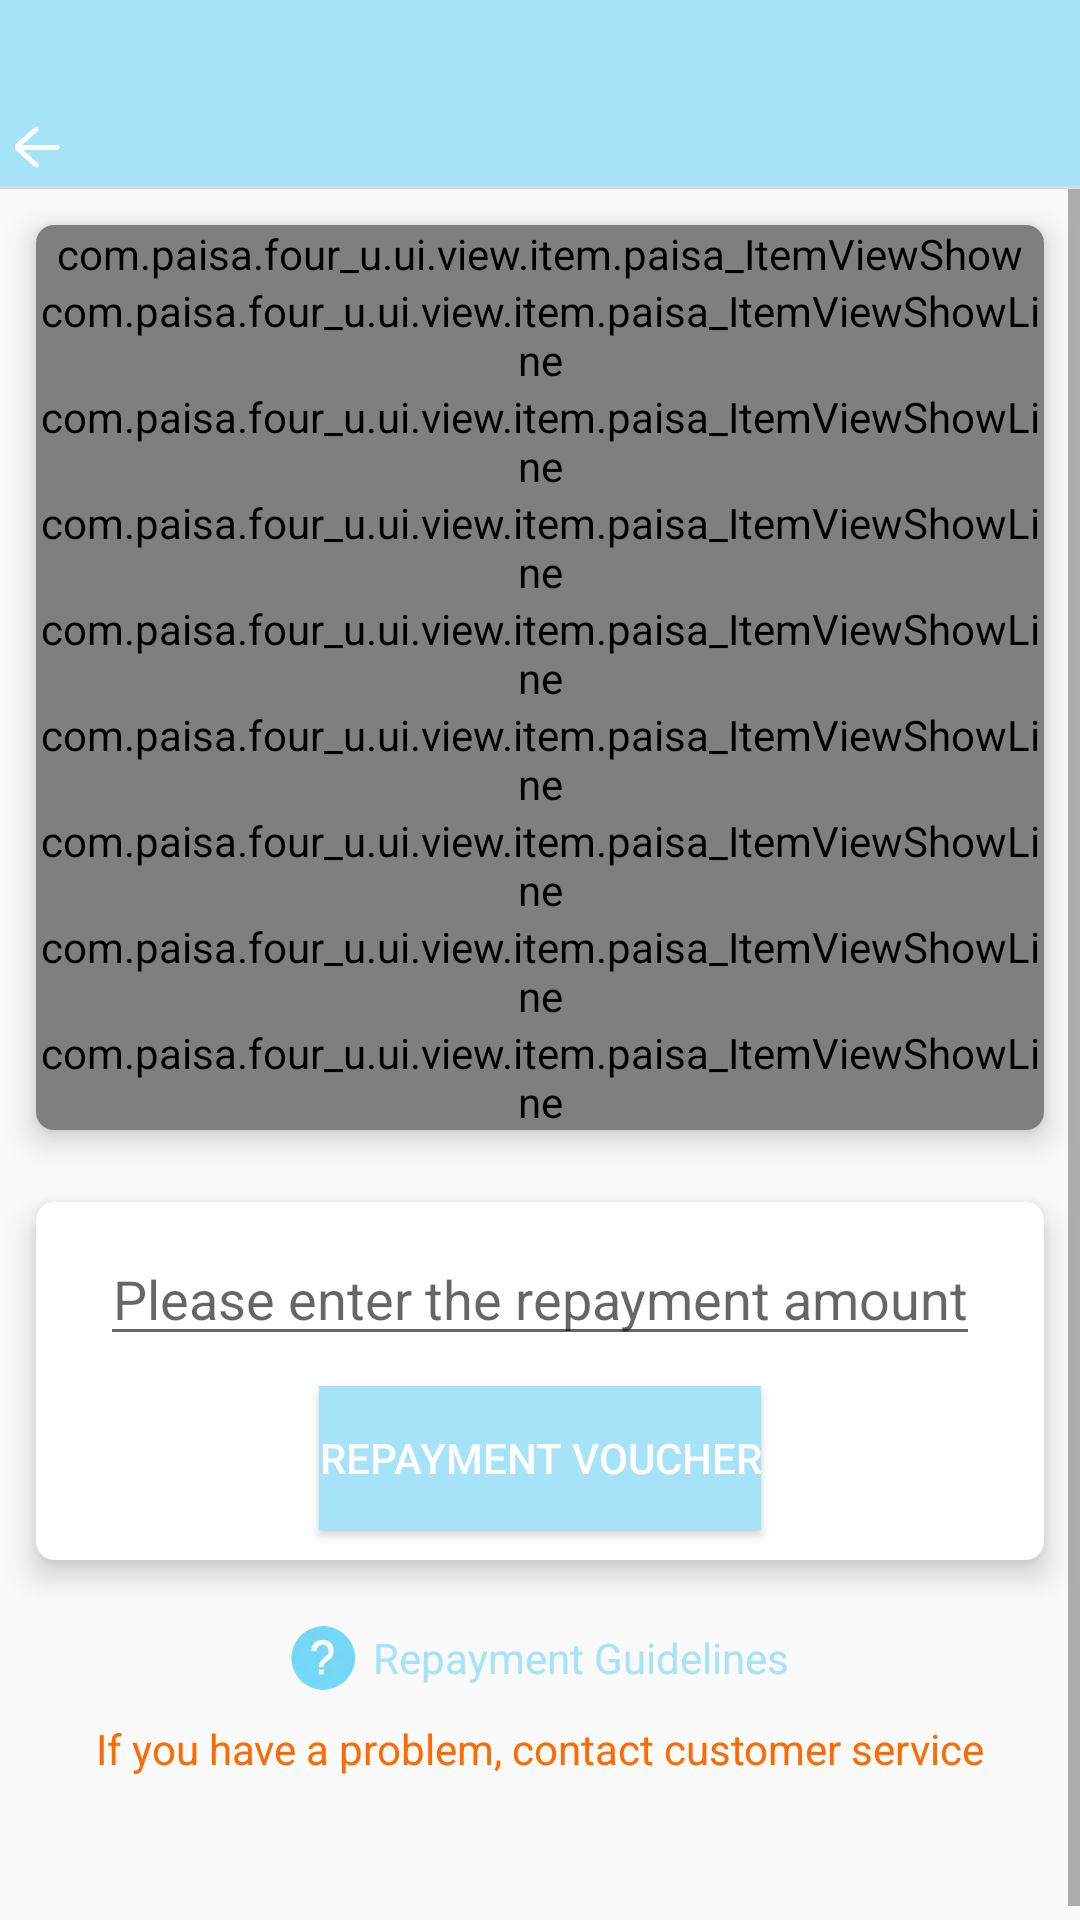

Point at icon controls on the screen. Image size 1080 x 1920, points as (x,y).
paisa back: (37,147)
